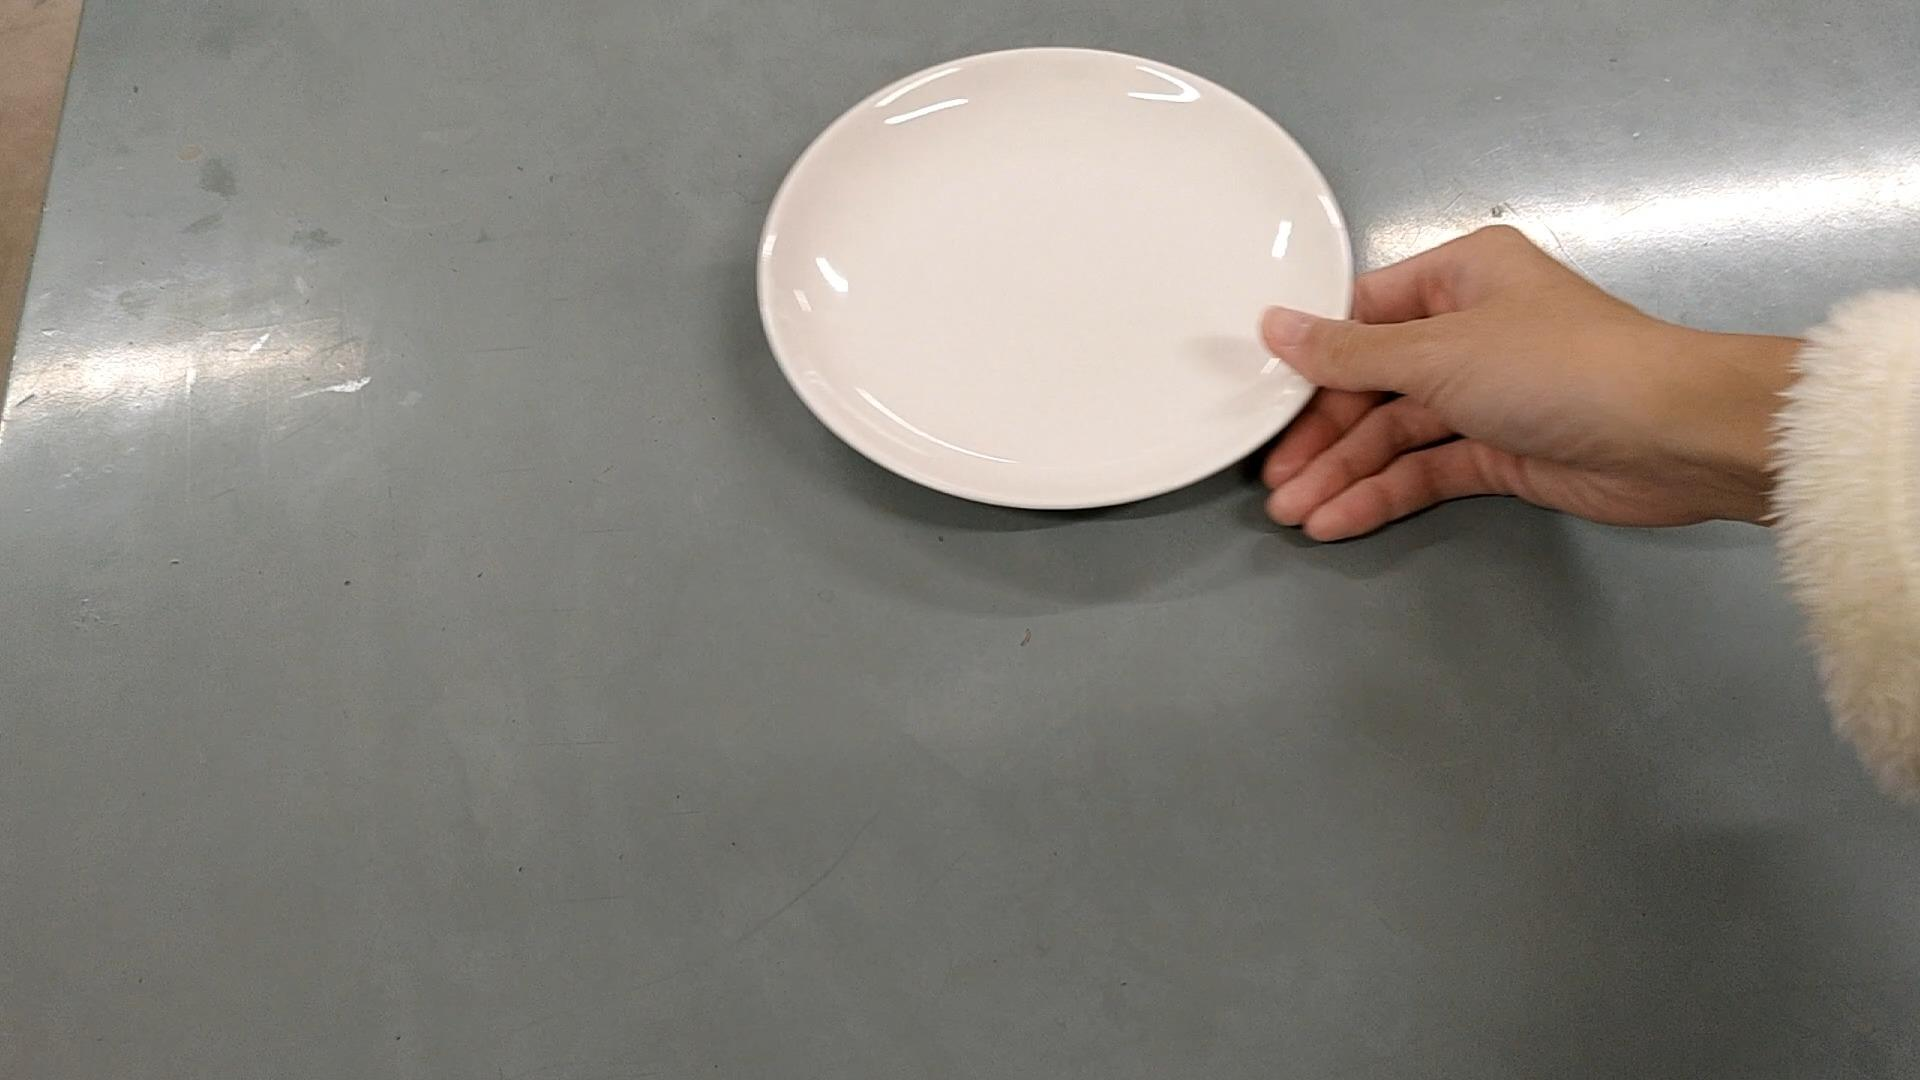plate: (761, 41, 1357, 516)
